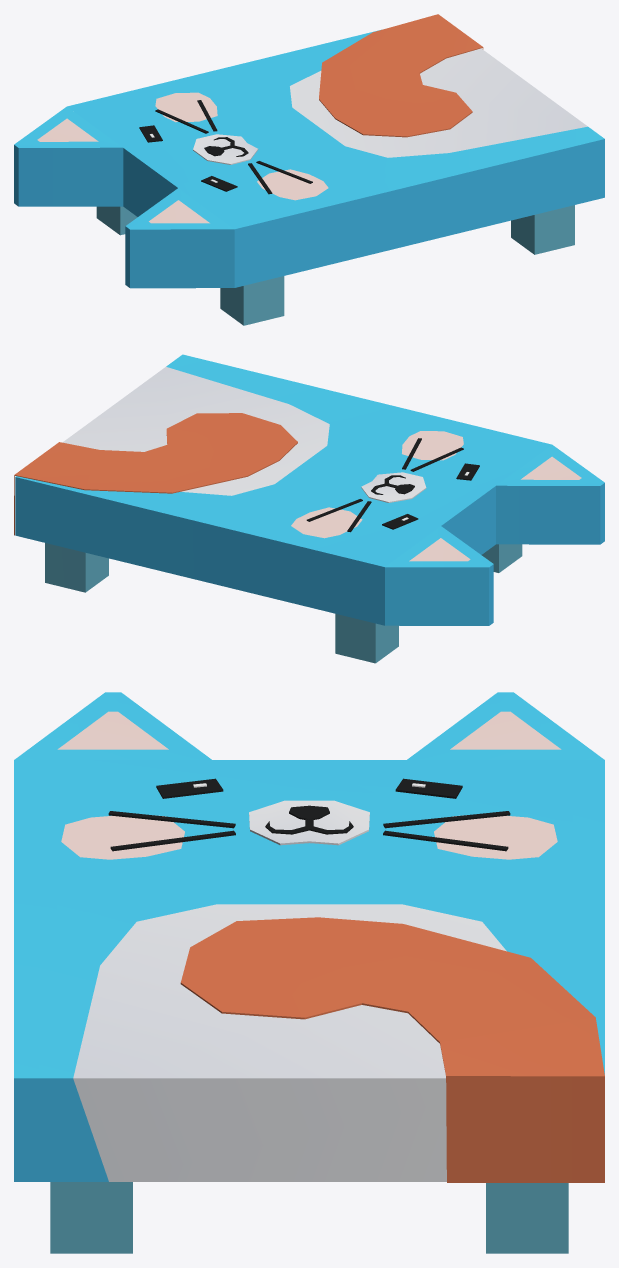
File: Ban an 1.008.gltf
3 views of the same model, one above another, from view 1: azimuth 30°, elevation 25°; view 2: azimuth 150°, elevation 25°; view 3: azimuth 270°, elevation 25° (orthographic). The views are drawn at different scales.
Parts seen in each view (by area): view 1: Ban an 1.008; view 2: Ban an 1.008; view 3: Ban an 1.008.
Part boxes in pixels (x1=…): Ban an 1.008: x1=14, y1=14, x2=604, y2=325; Ban an 1.008: x1=14, y1=354, x2=604, y2=663; Ban an 1.008: x1=14, y1=692, x2=604, y2=1253.
Size of the model in its own units: 7.47 by 1.76 by 4.82.
Materials: 1 (1 with a texture image).
